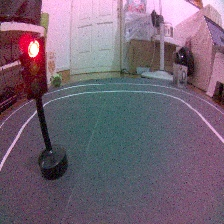red: (19, 36, 72, 184)
